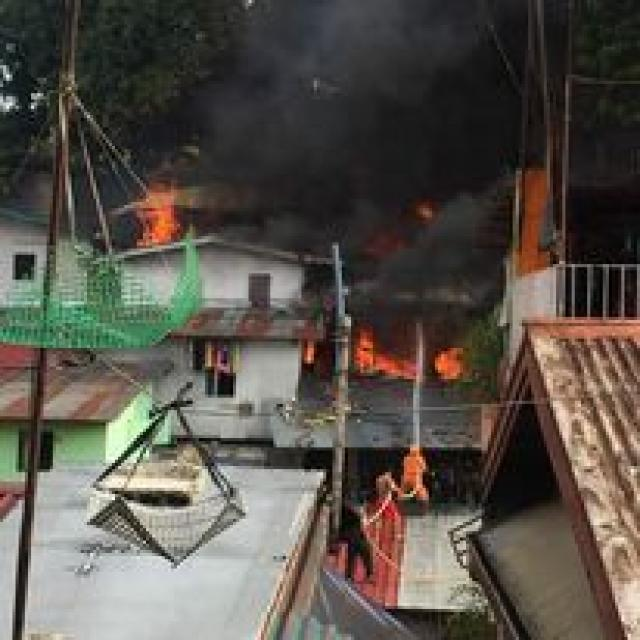Fire: (354, 329, 474, 386), (366, 197, 444, 259), (134, 183, 184, 254)
Smoke: (214, 0, 518, 266), (326, 252, 488, 356), (41, 166, 214, 234)
